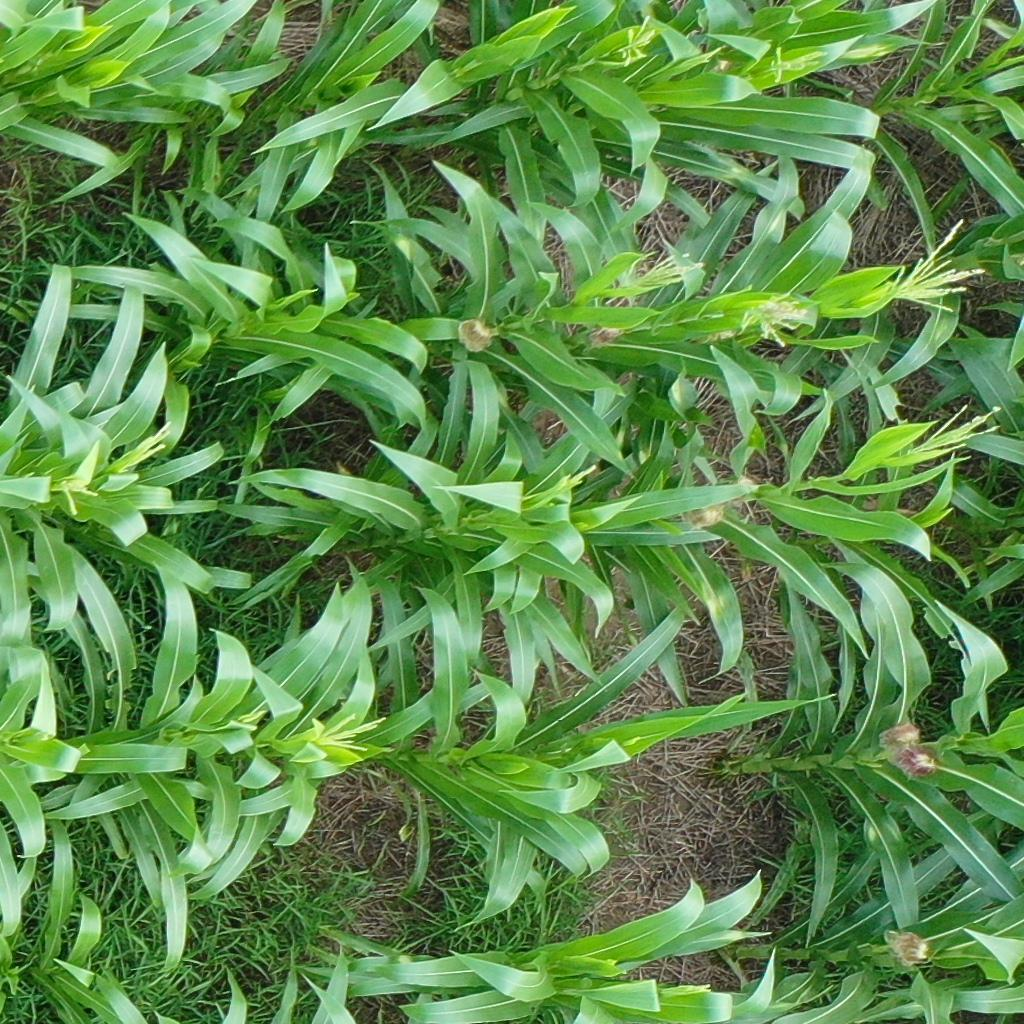Tassel: (891, 214, 984, 325), (900, 391, 1004, 466), (605, 248, 701, 305), (302, 711, 386, 759), (738, 295, 810, 349), (112, 419, 174, 473), (48, 469, 100, 518), (765, 45, 827, 81), (551, 460, 602, 498), (619, 13, 654, 67), (655, 980, 715, 1000)
